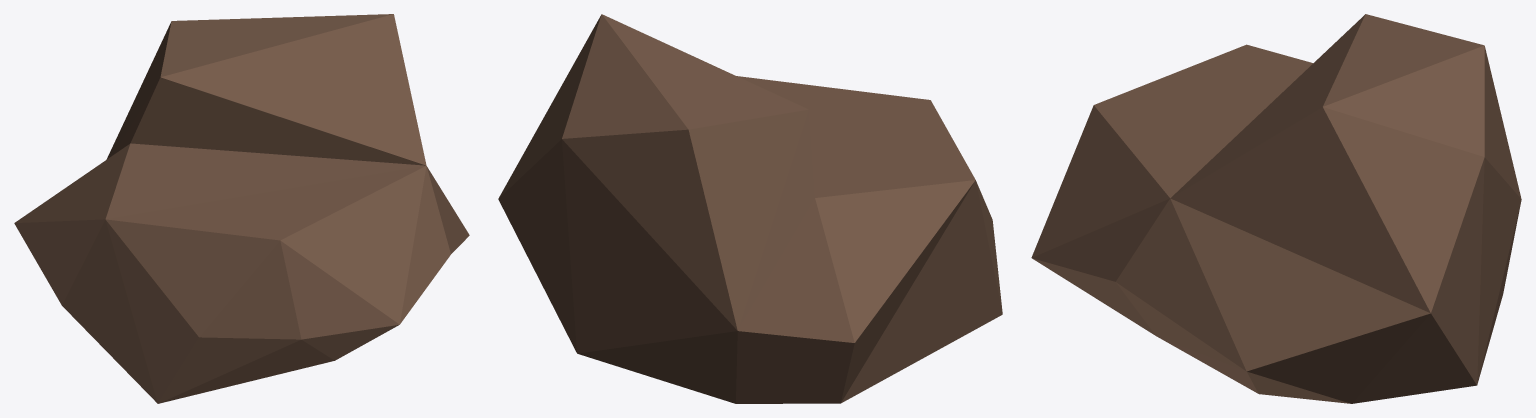
The model's file is Boulder-B08.fbx.
3 renders of one model, left to right at view 1: azimuth 30°, elevation 25°; view 2: azimuth 150°, elevation 25°; view 3: azimuth 270°, elevation 25°, orthographic. The views are drawn at different scales.
Parts seen in each view (by area): view 1: Boulder-B08; view 2: Boulder-B08; view 3: Boulder-B08.
Part boxes in pixels (x1,y1,x2,y2): Boulder-B08: (14,14,469,403); Boulder-B08: (498,14,1002,403); Boulder-B08: (1031,14,1521,403).
Bounding box in the file's own units: 120 × 80.52 × 118.
